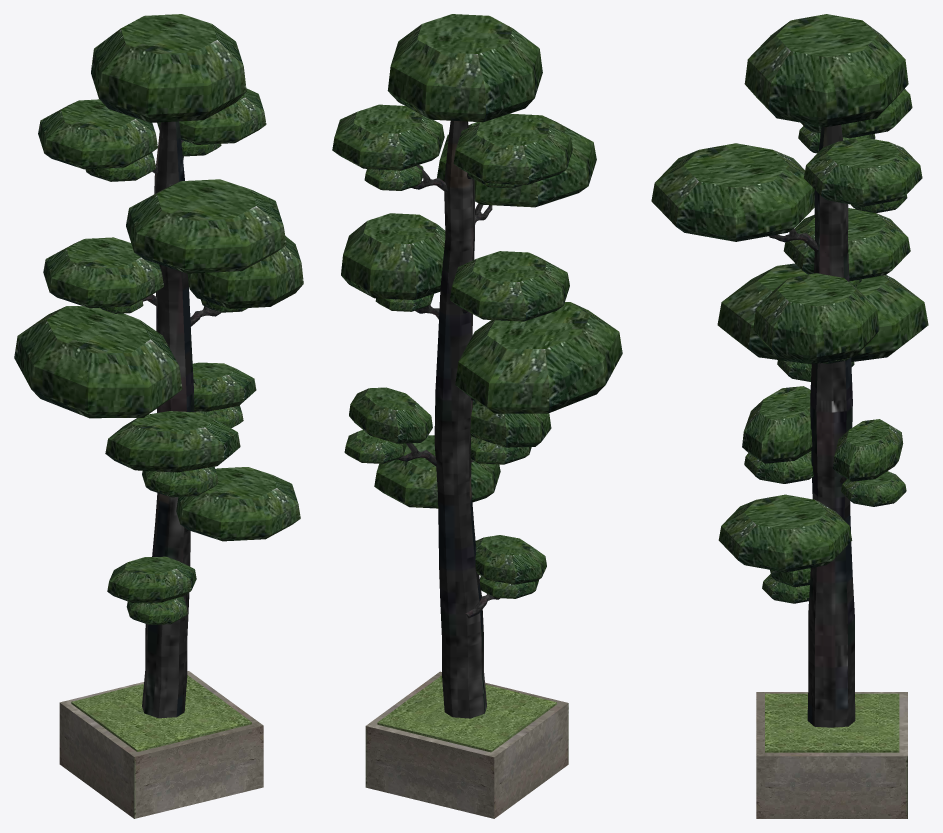
The model's file is cay-tung-dang-truc-2.glb.
3 renders of one model, left to right at view 1: azimuth 30°, elevation 25°; view 2: azimuth 150°, elevation 25°; view 3: azimuth 270°, elevation 25°, orthographic.
Visible parts, largest first — view 1: Circle_067; view 2: Circle_067; view 3: Circle_067.
Part boxes in pixels (x1=…): Circle_067: x1=14, y1=14, x2=303, y2=818; Circle_067: x1=332, y1=14, x2=622, y2=818; Circle_067: x1=651, y1=14, x2=928, y2=818.
Size of the model in its own units: 2.21 by 5.97 by 1.98.
1 material, 1 textured.
